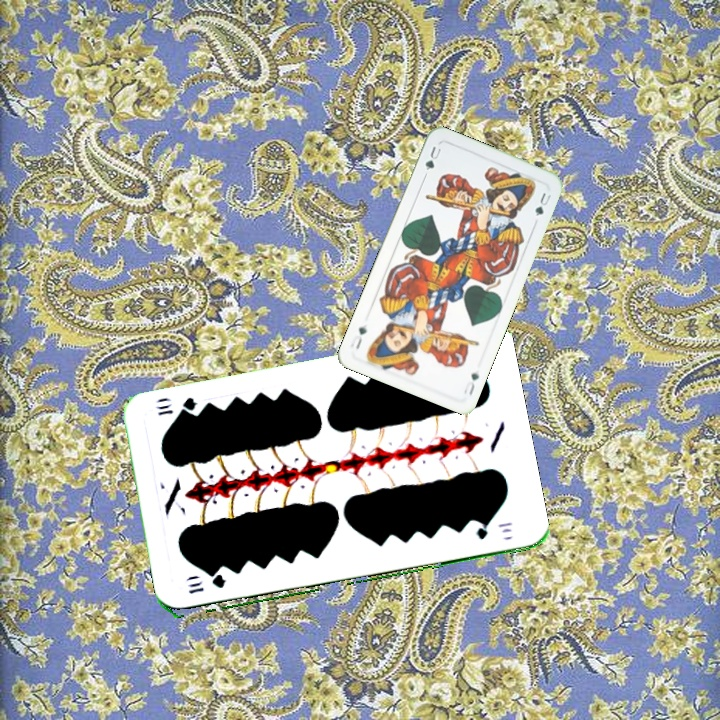G10: (185, 573, 228, 596)
GU: (420, 142, 444, 179), (460, 369, 482, 398)
